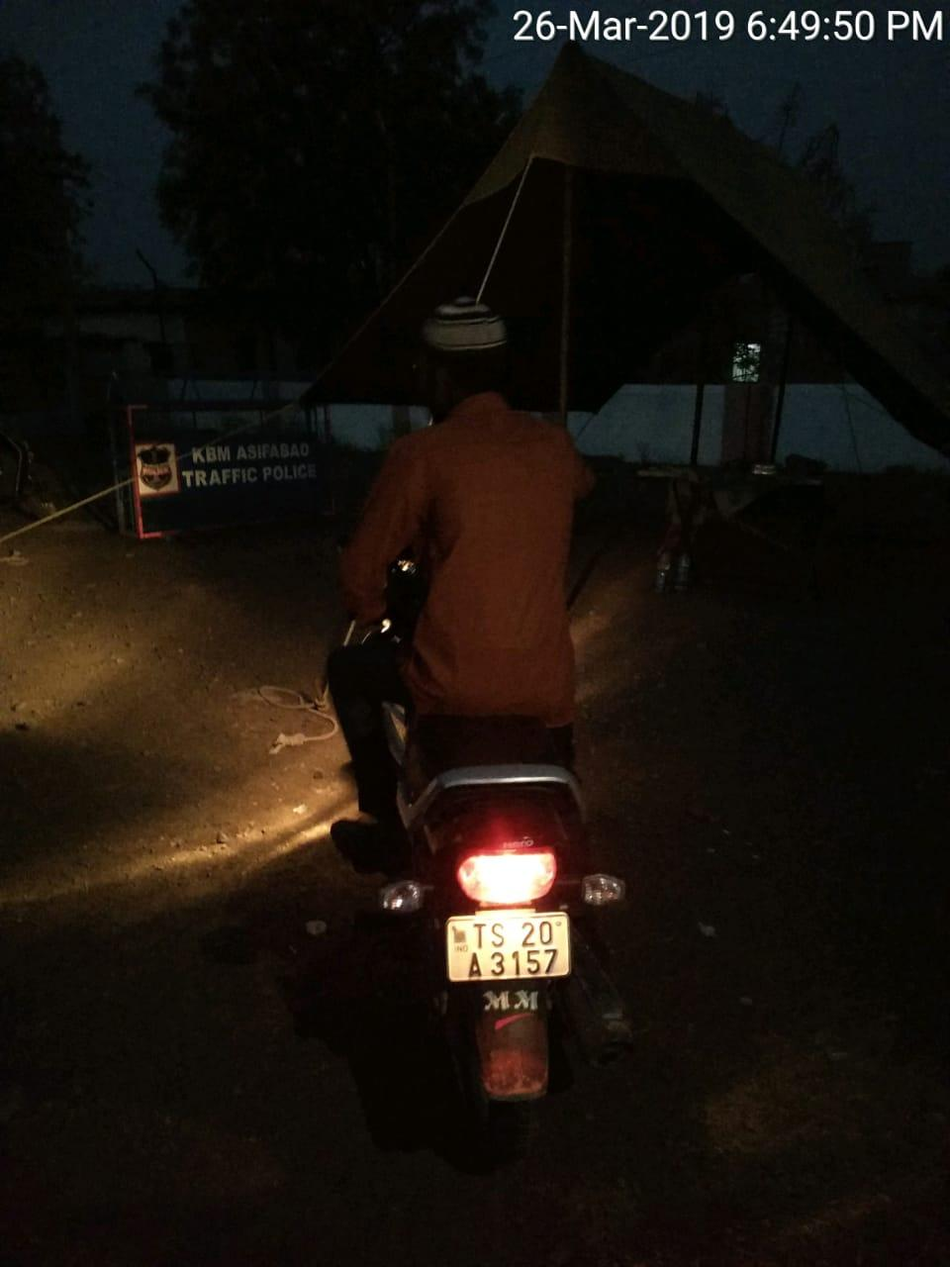plate: (425, 897, 585, 989)
